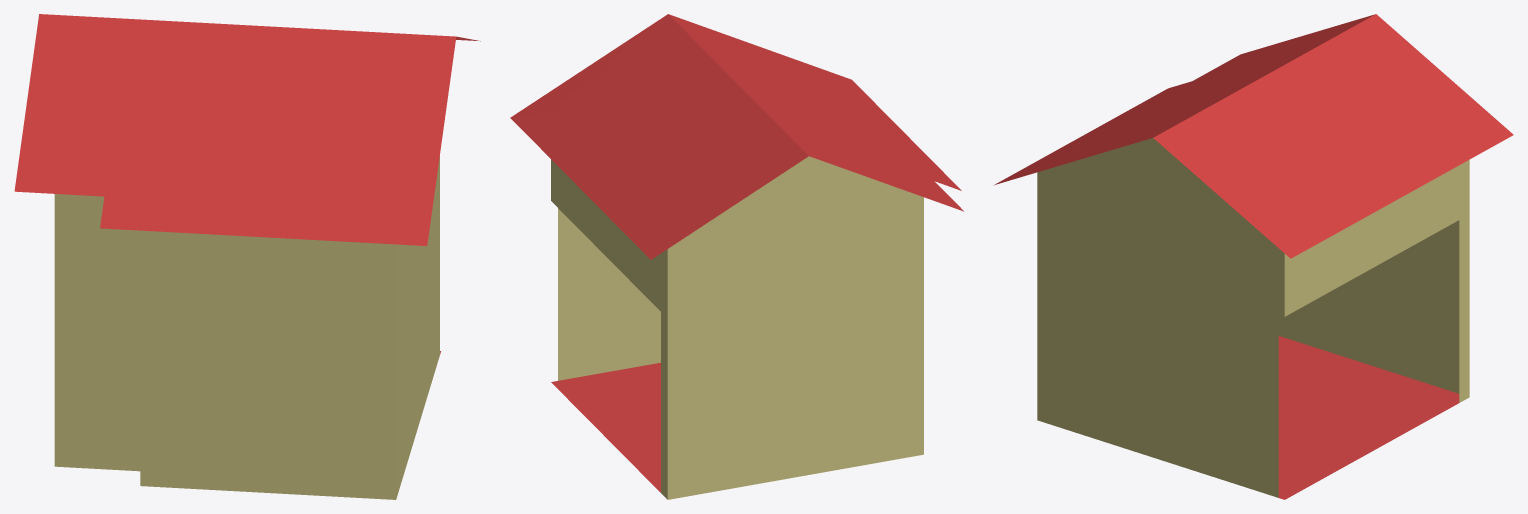
3 renders of one model, left to right at view 1: azimuth 30°, elevation 25°; view 2: azimuth 150°, elevation 25°; view 3: azimuth 270°, elevation 25°, orthographic. The views are drawn at different scales.
Size of the model in its own units: 15.92 by 16.54 by 11.79.
